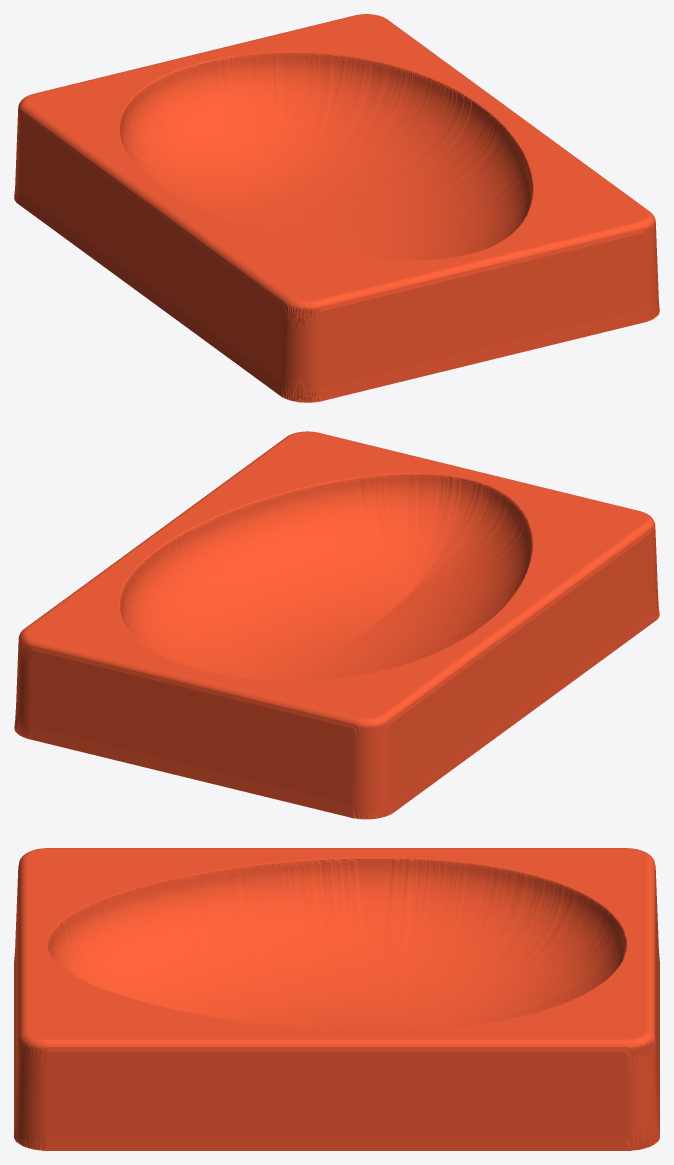
The model's file is mold.glb.
3 renders of one model, top to bottom at view 1: azimuth 30°, elevation 25°; view 2: azimuth 150°, elevation 25°; view 3: azimuth 270°, elevation 25°, orthographic. The views are drawn at different scales.
Parts seen in each view (by area): view 1: geometry_0; view 2: geometry_0; view 3: geometry_0.
Boxes of the visible parts, x1,y1,x2,y2 form: geometry_0: (14, 14, 659, 402); geometry_0: (14, 431, 659, 819); geometry_0: (14, 848, 659, 1150).
Size of the model in its own units: 0.1262 by 0.031 by 0.1709.
